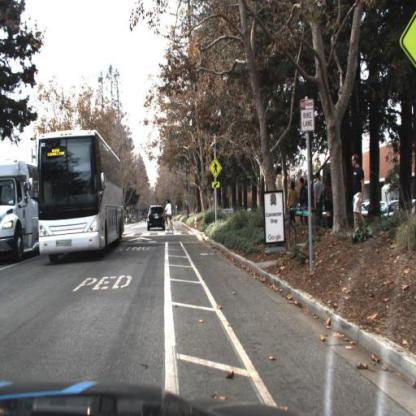biker: (163, 198, 177, 238)
car: (145, 201, 168, 233)
pedestrian: (349, 154, 368, 236), (323, 169, 335, 229), (312, 174, 326, 224), (296, 175, 310, 219), (323, 173, 333, 229), (313, 171, 324, 221), (289, 182, 301, 225), (300, 178, 311, 214), (302, 181, 310, 230)
truck: (35, 128, 125, 263)
